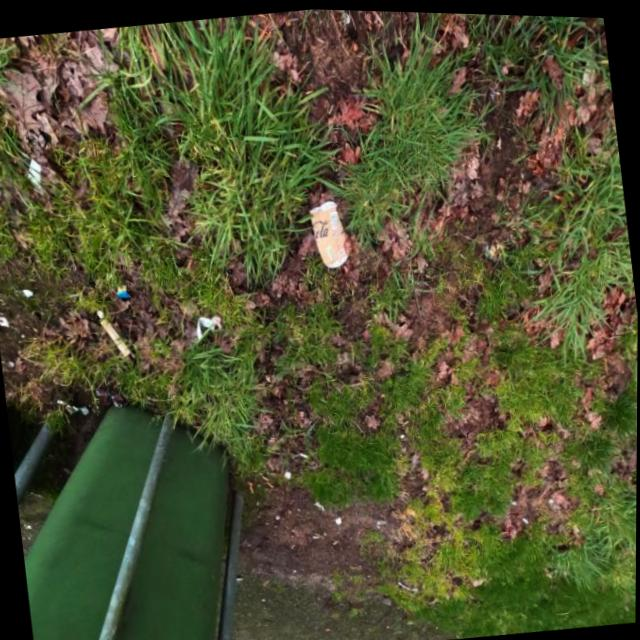Can-Metal: (306, 192, 352, 268)
Paper: (193, 313, 215, 338)
Plastic: (95, 382, 129, 409), (63, 400, 89, 417), (210, 312, 222, 329)
